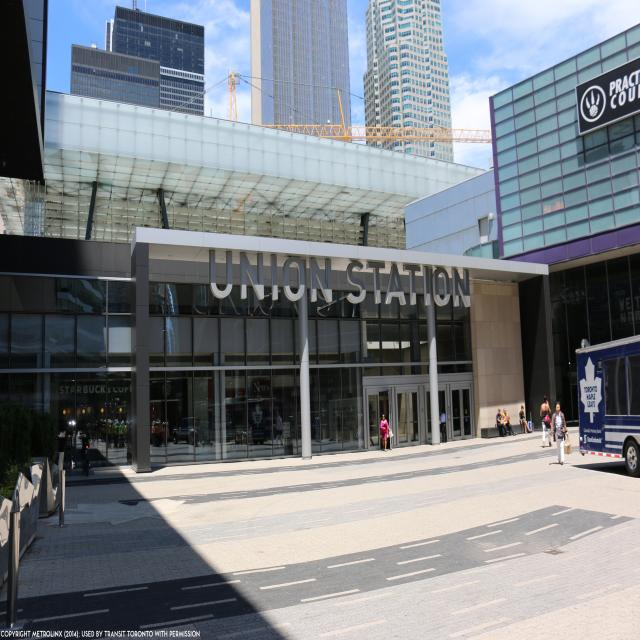body: (77, 414, 132, 454), (548, 399, 574, 466), (149, 418, 173, 447), (540, 395, 553, 448), (330, 408, 344, 448), (380, 413, 394, 452), (501, 407, 519, 437), (272, 410, 285, 444), (496, 408, 510, 438), (519, 405, 532, 434), (311, 408, 321, 441), (439, 408, 447, 444)
